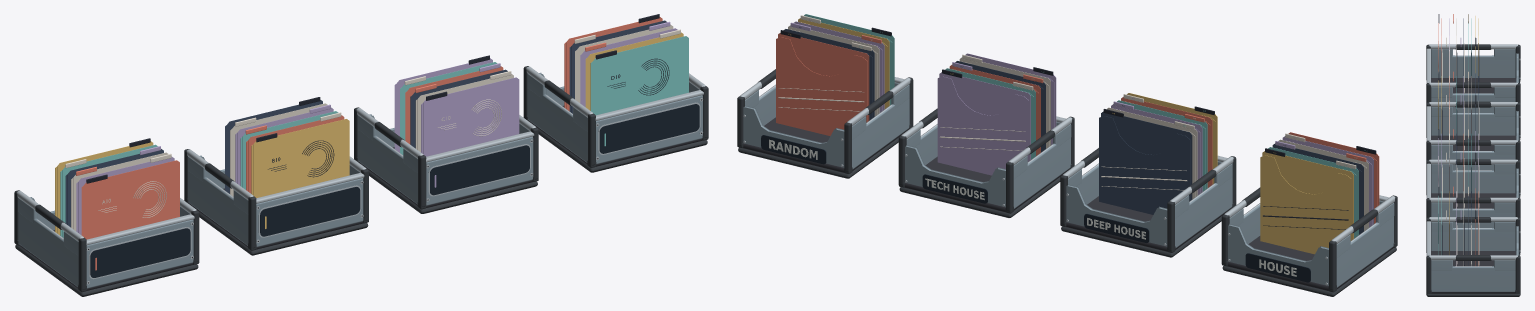
The model's file is BoothFourCrates.fbx.
The picture shows the model from 3 angles, left to right: view 1: azimuth 30°, elevation 25°; view 2: azimuth 150°, elevation 25°; view 3: azimuth 270°, elevation 25°; orthographic projection. The views are drawn at different scales.
Visible parts, largest first — view 1: BoothFourCratesGenres; view 2: BoothFourCratesGenres; view 3: BoothFourCratesGenres.
Boxes of the visible parts, x1=… form: BoothFourCratesGenres: x1=14, y1=14, x2=708, y2=296; BoothFourCratesGenres: x1=737, y1=14, x2=1397, y2=296; BoothFourCratesGenres: x1=1426, y1=14, x2=1520, y2=296.
Size of the model in its own units: 4.44 by 0.83 by 0.7365.
